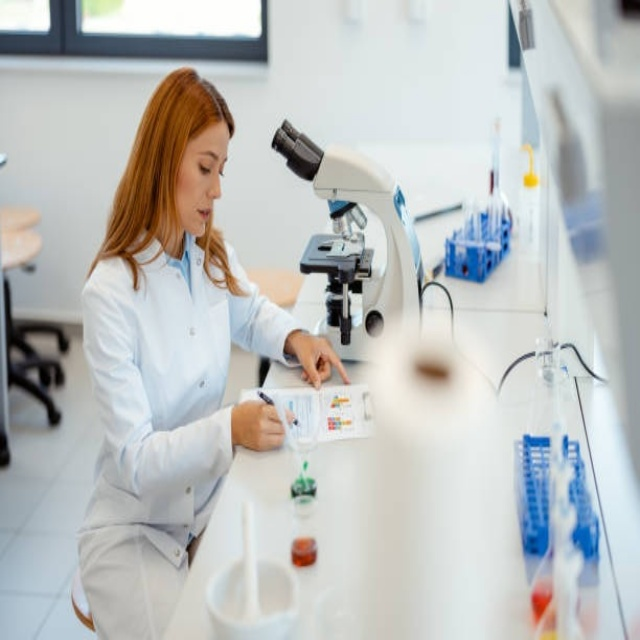Sin_gafas: (186, 146, 230, 185)
Sin_guantes: (289, 332, 351, 391), (232, 397, 289, 452)
Sin_mascara: (185, 198, 216, 235)
